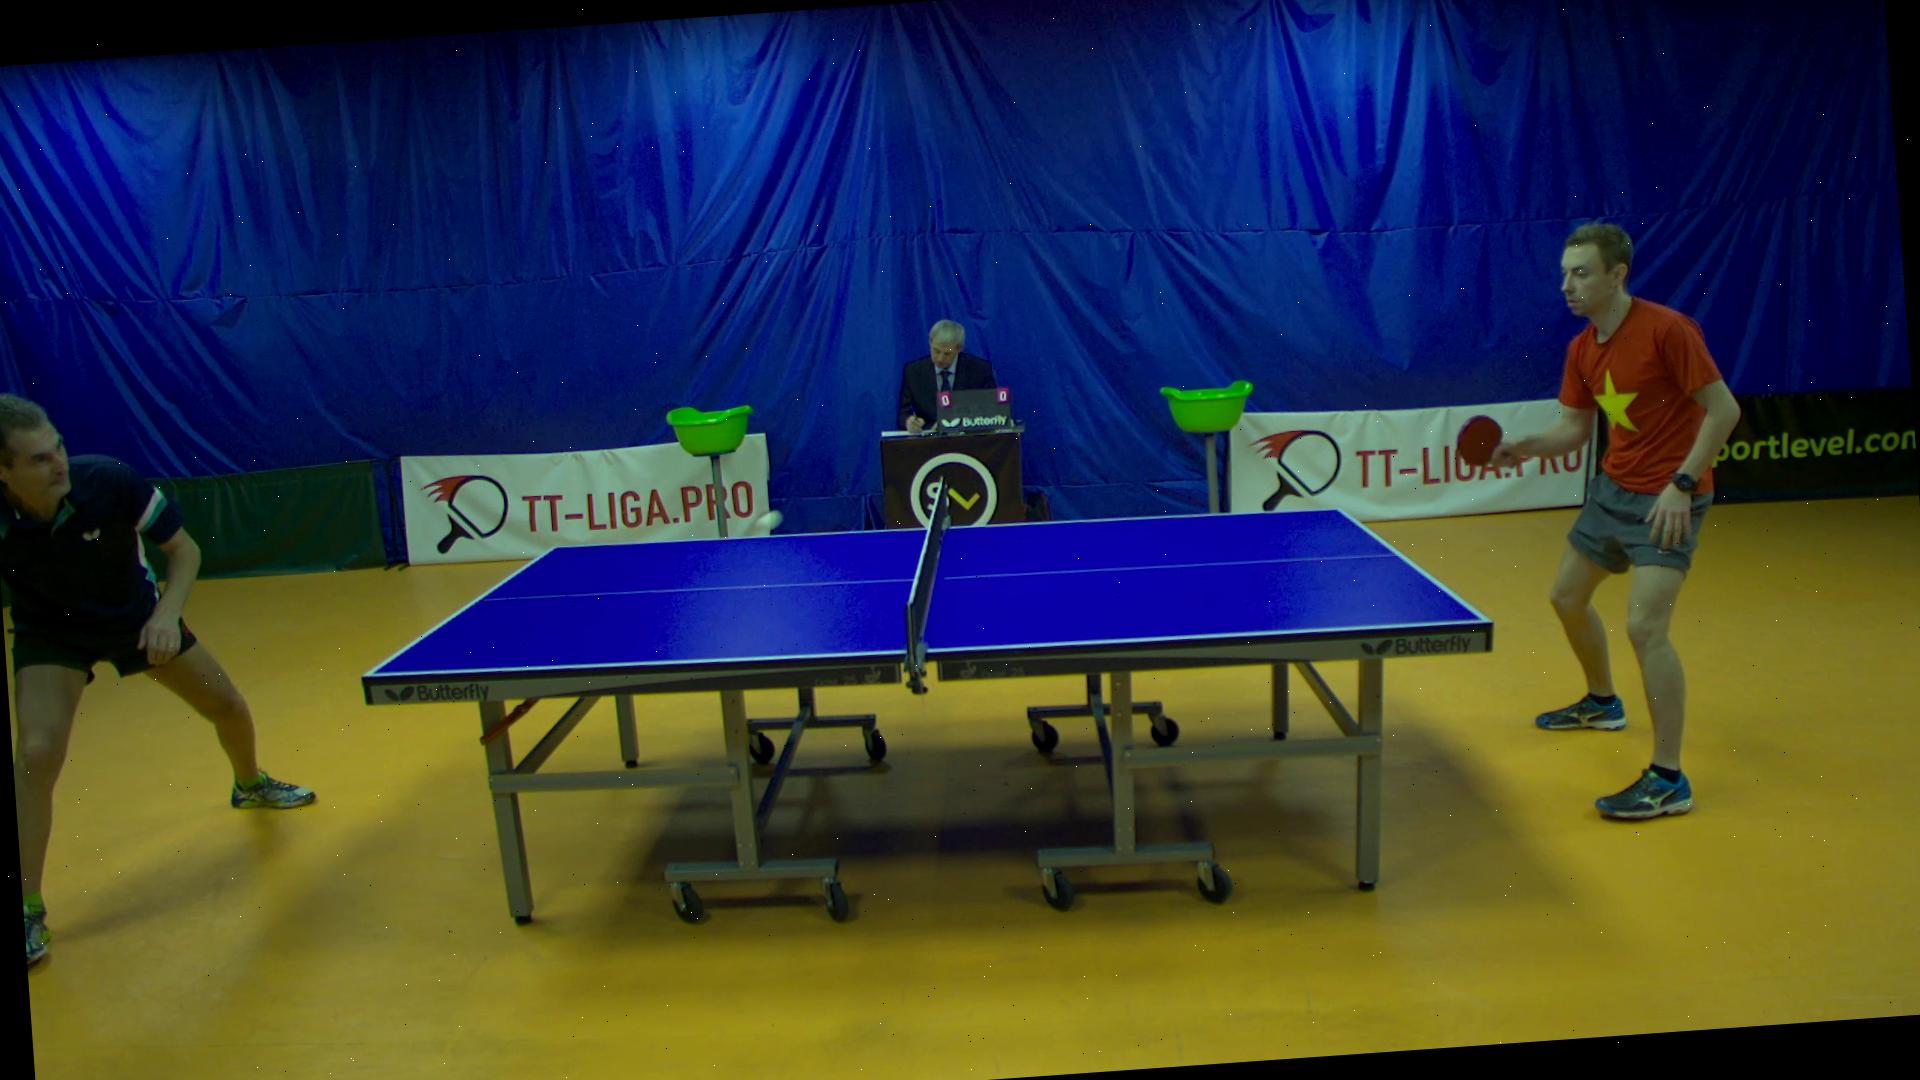ball: (746, 504, 791, 537)
